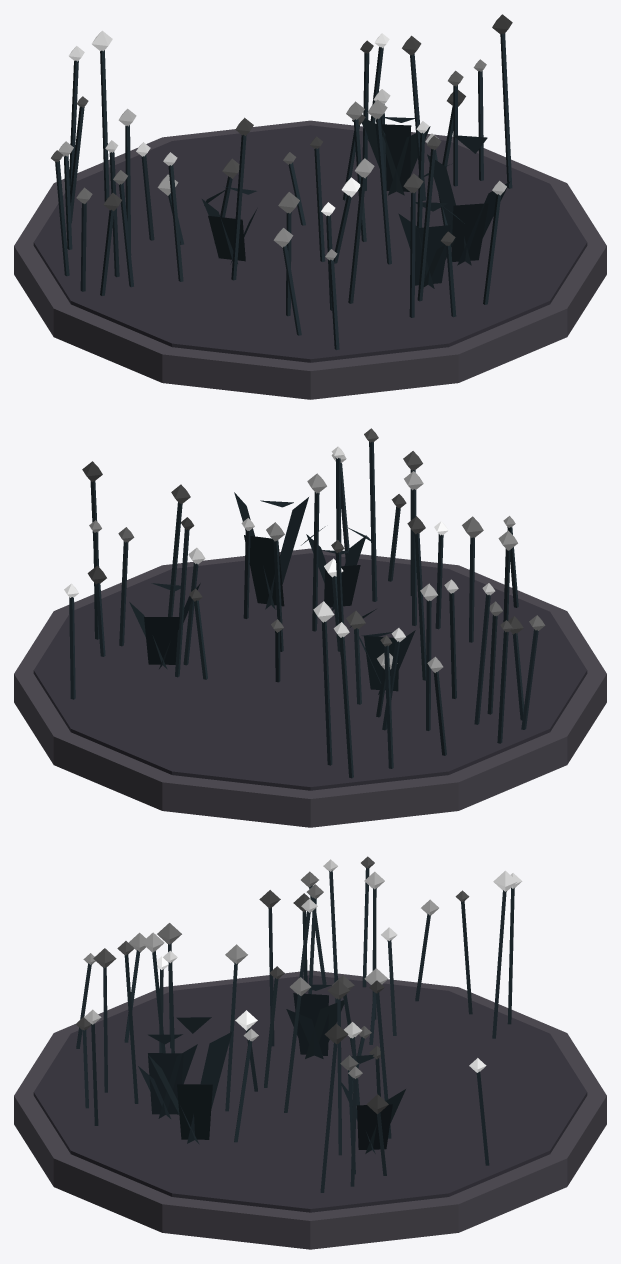
The model's file is sprig_bed_3m.glb.
3 views of the same model, one above another, from view 1: azimuth 30°, elevation 25°; view 2: azimuth 150°, elevation 25°; view 3: azimuth 270°, elevation 25° (orthographic).
Visible parts, largest first — view 1: sprig_bed_3m; view 2: sprig_bed_3m; view 3: sprig_bed_3m.
Part boxes in pixels (x1,y1,x2,y2): sprig_bed_3m: (14, 14, 606, 399); sprig_bed_3m: (14, 428, 606, 827); sprig_bed_3m: (14, 856, 606, 1249).
Bounding box in the file's own units: 3 × 1.12 × 3.
Materials: 4 (1 with a texture image).
